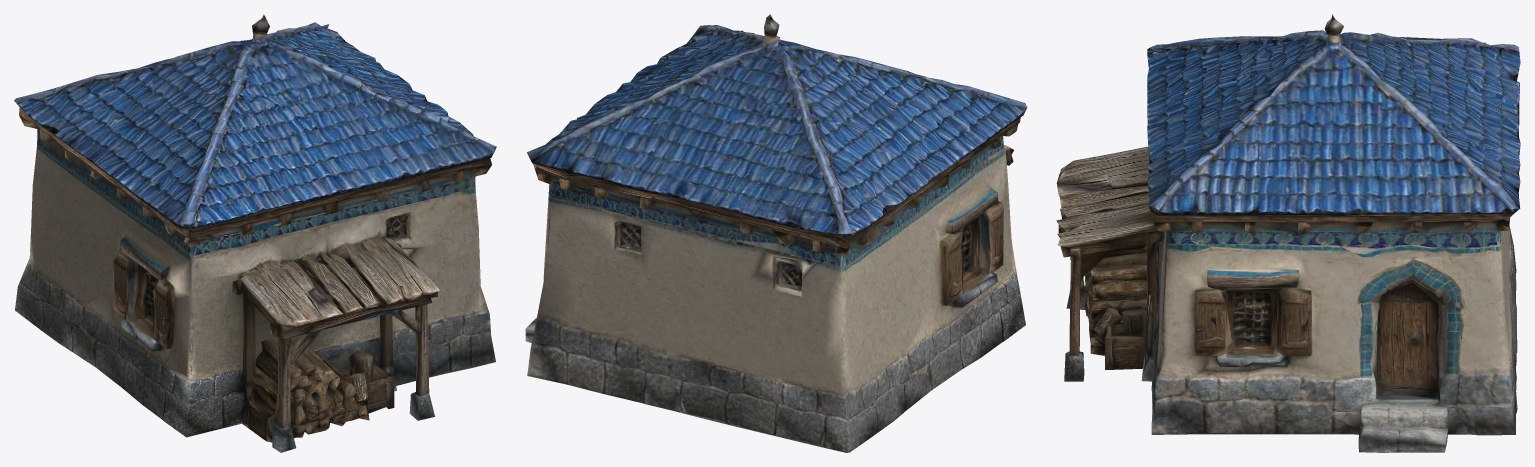
File: house_cottage_2.glb
3 renders of one model, left to right at view 1: azimuth 30°, elevation 25°; view 2: azimuth 150°, elevation 25°; view 3: azimuth 270°, elevation 25°, orthographic. The views are drawn at different scales.
Visible parts, largest first — view 1: tripo_node_f4536328-5a8a-4b85-a494-a01f031eb54b; view 2: tripo_node_f4536328-5a8a-4b85-a494-a01f031eb54b; view 3: tripo_node_f4536328-5a8a-4b85-a494-a01f031eb54b.
Boxes of the visible parts, x1,y1,x2,y2 form: tripo_node_f4536328-5a8a-4b85-a494-a01f031eb54b: (14, 14, 496, 452); tripo_node_f4536328-5a8a-4b85-a494-a01f031eb54b: (525, 14, 1027, 452); tripo_node_f4536328-5a8a-4b85-a494-a01f031eb54b: (1056, 14, 1520, 452).
Bounding box in the file's own units: 0.9139 × 0.8034 × 0.9783.
1 material, 1 textured.
